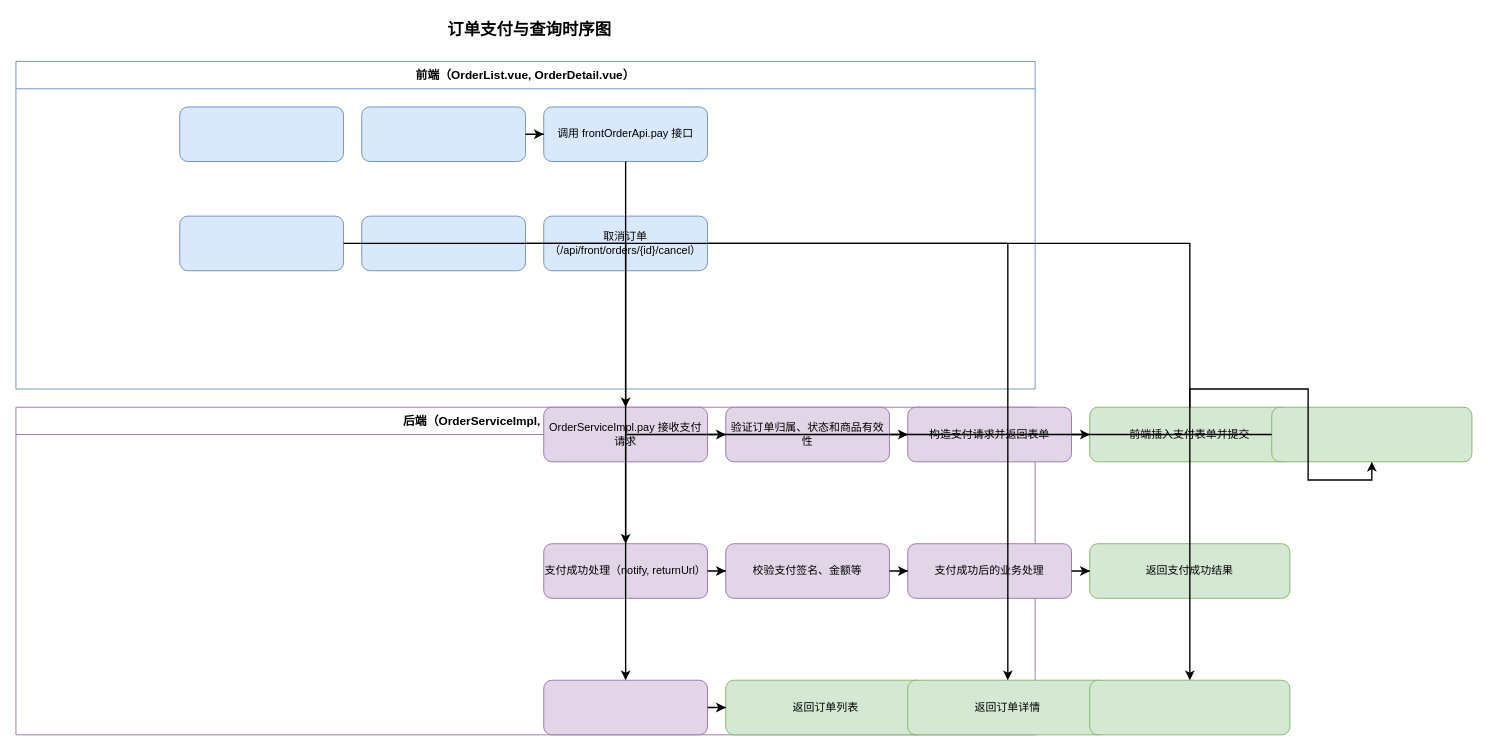
Some shapes in this 1488 by 751 pixel diagram are drawn without their labels. Each missing label, with the centre of its shape:
接收订单查询请求: point (625, 707)
查询订单详情（/api/front/orders/{id}）: point (443, 243)
点击支付按钮: point (443, 134)
订单列表页面（OrderList.vue）: point (261, 134)
订单查询（/api/front/orders）: point (261, 243)
跳转到支付宝支付页面: point (1371, 434)
返回订单取消结果: point (1189, 707)
